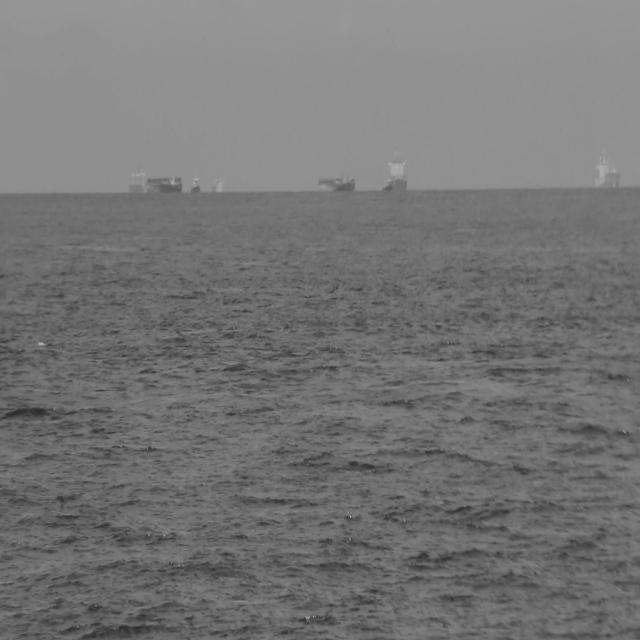ship: (130, 165, 182, 196), (378, 146, 408, 194), (594, 146, 620, 192), (316, 170, 356, 193), (189, 176, 202, 196)
